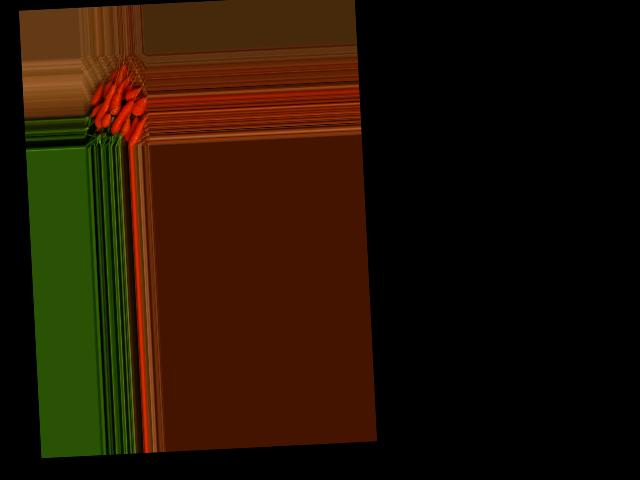carrot: (87, 100, 103, 115)
